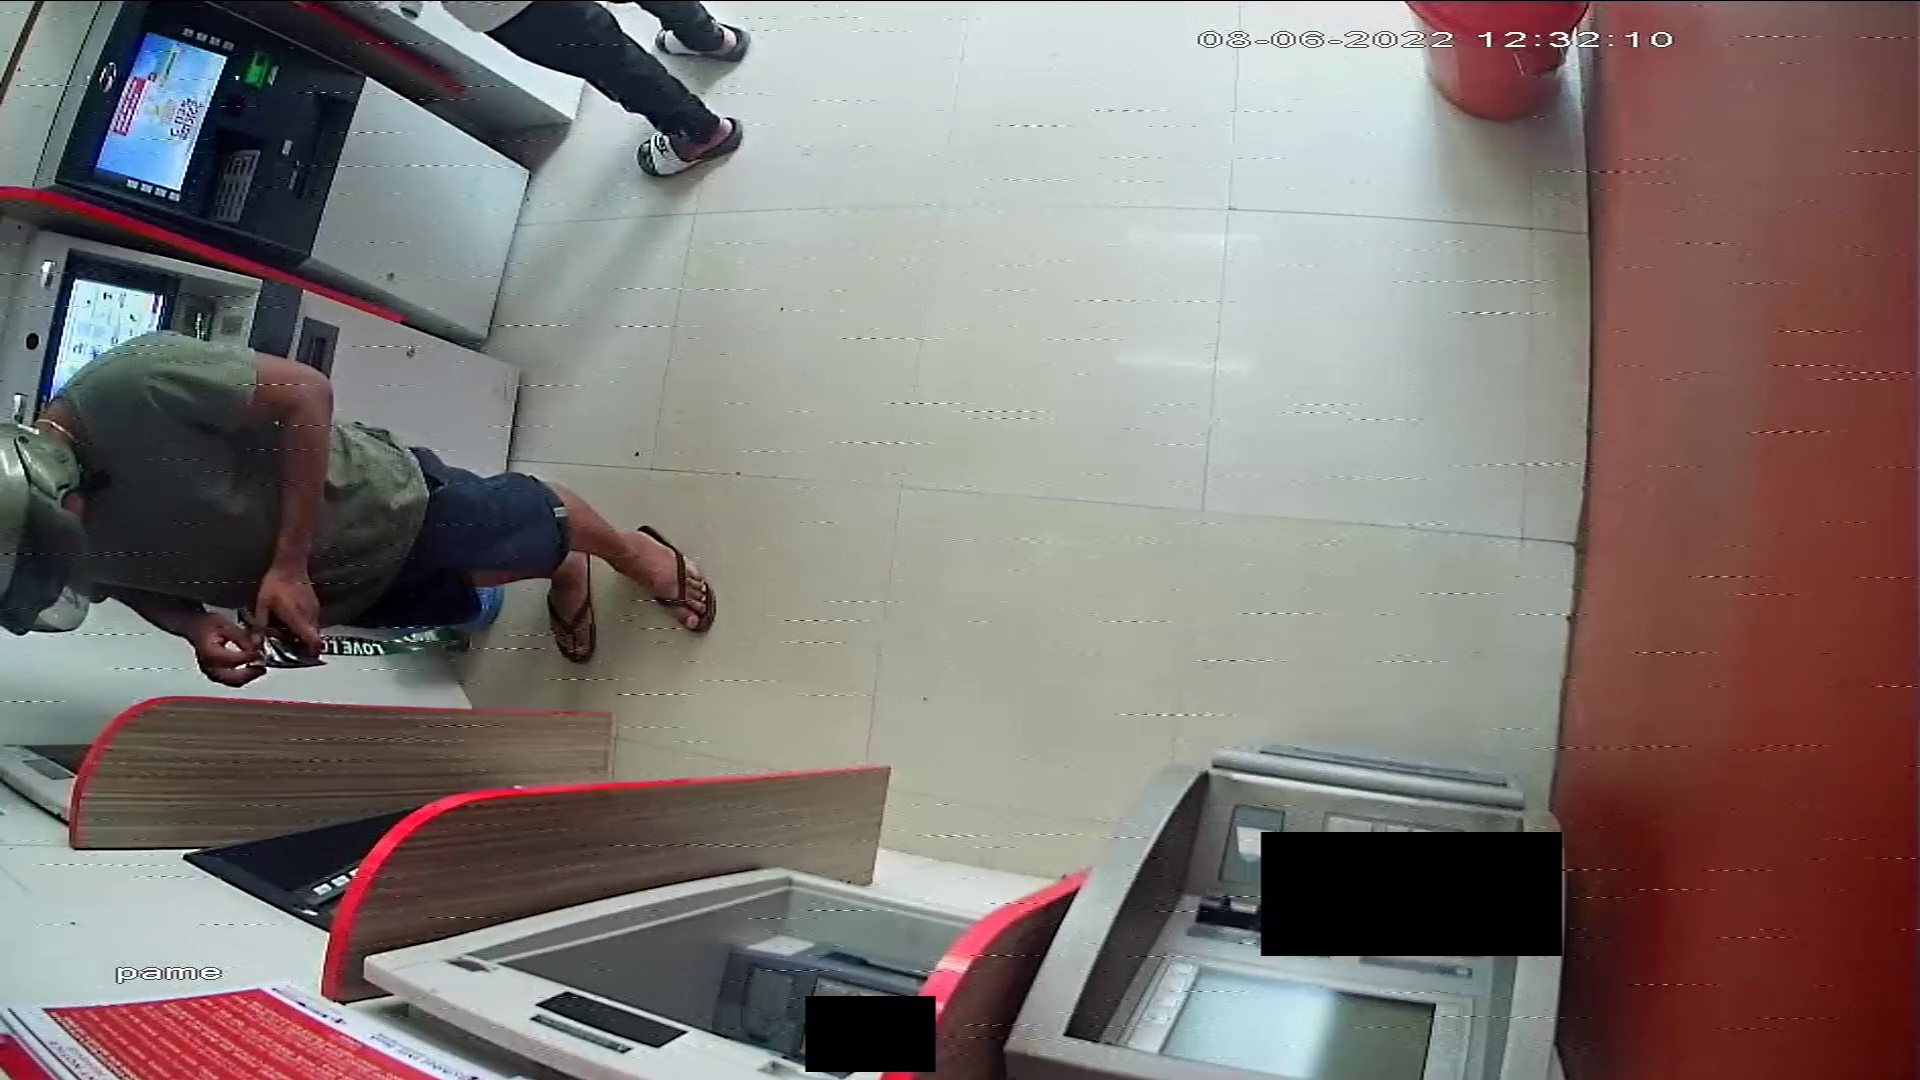helmet: (1, 420, 99, 636)
person: (1, 332, 719, 690)
